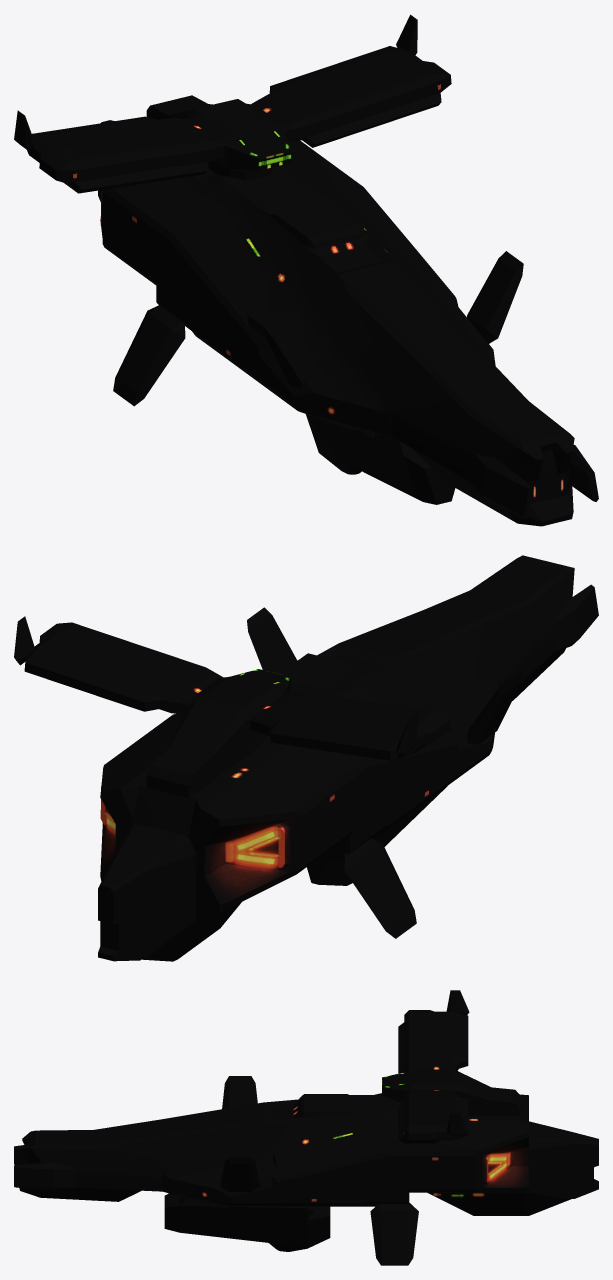
Rendered from template_SequenceHandler.glb.
3 views of the same model, one above another, from view 1: azimuth 30°, elevation 25°; view 2: azimuth 150°, elevation 25°; view 3: azimuth 270°, elevation 25° (orthographic). The views are drawn at different scales.
Visible parts, largest first — view 1: tan_assault_fregate_LOD1; view 2: tan_assault_fregate_LOD1; view 3: tan_assault_fregate_LOD1.
Boxes of the visible parts, x1,y1,x2,y2 form: tan_assault_fregate_LOD1: [14, 14, 598, 526]; tan_assault_fregate_LOD1: [14, 555, 598, 961]; tan_assault_fregate_LOD1: [14, 990, 598, 1265].
Bounding box in the file's own units: 1.9 × 1.42 × 3.78.
Materials: 1 (1 with a texture image).
